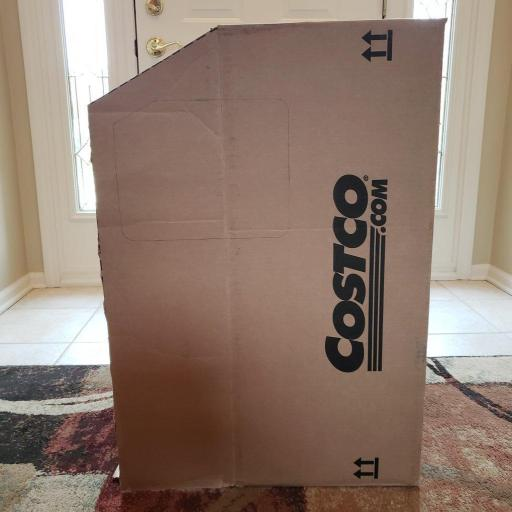cardboard: (88, 18, 445, 488)
